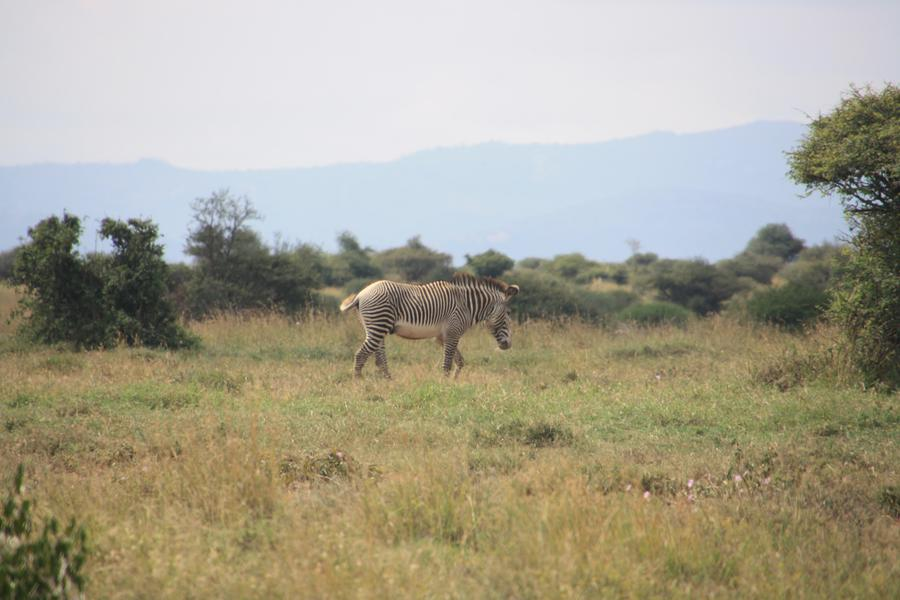zebra_grevys: (350, 269, 466, 333)
